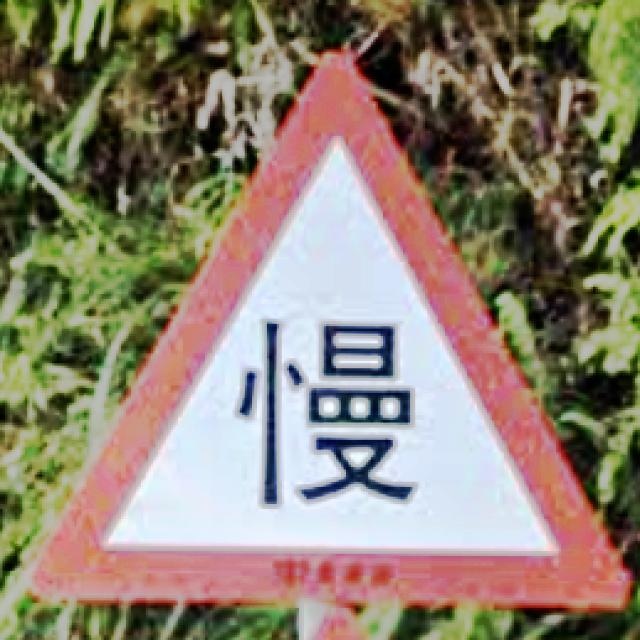slow: (27, 52, 633, 610)
